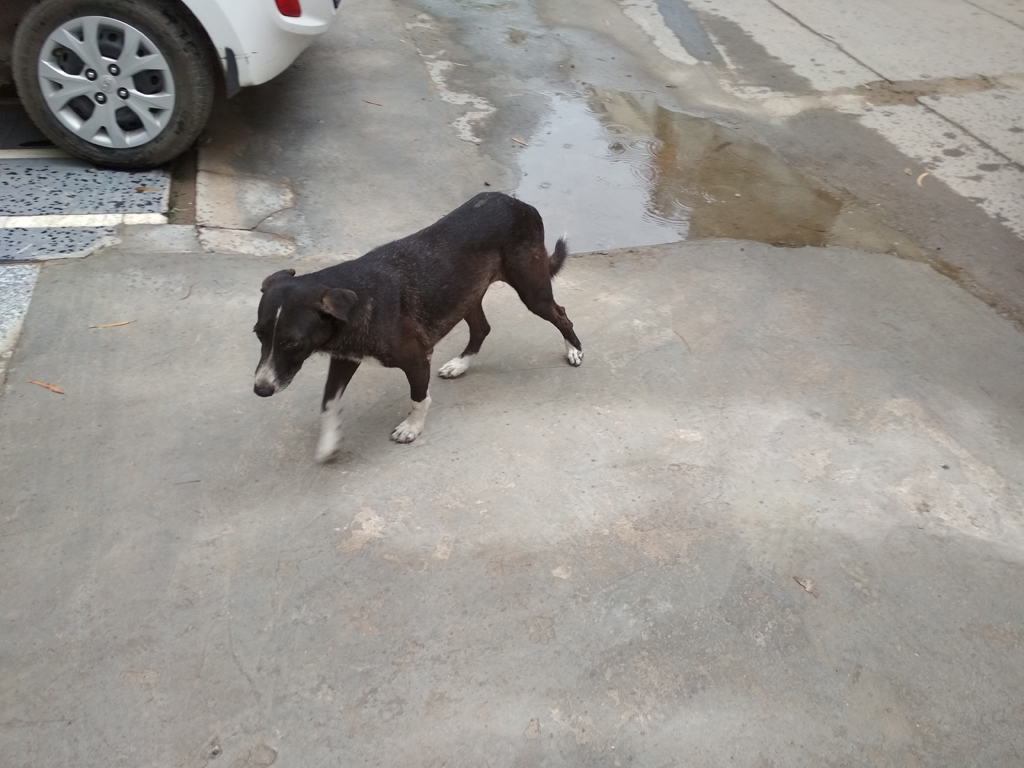dog: (252, 192, 588, 468)
